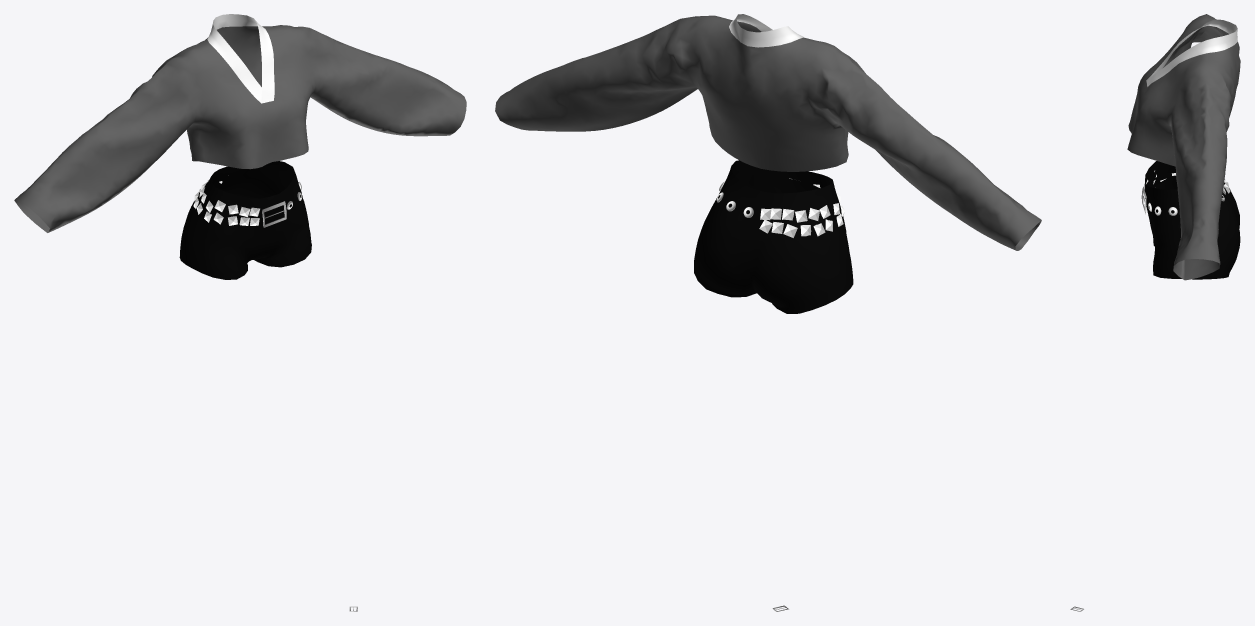
The model's file is goth_happy1.glb.
3 views of the same model, side by side, from view 1: azimuth 30°, elevation 25°; view 2: azimuth 150°, elevation 25°; view 3: azimuth 270°, elevation 25° (orthographic). The views are drawn at different scales.
Parts seen in each view (by area): view 1: Untitled (6); view 2: Untitled (6); view 3: Untitled (6).
Part boxes in pixels (<box>): Untitled (6): <box>14,14,466,611</box>; Untitled (6): <box>495,14,1041,611</box>; Untitled (6): <box>1070,14,1240,611</box>.
Size of the model in its own units: 1.1 by 1.31 by 0.3626.
Materials: 7 (2 with a texture image).
